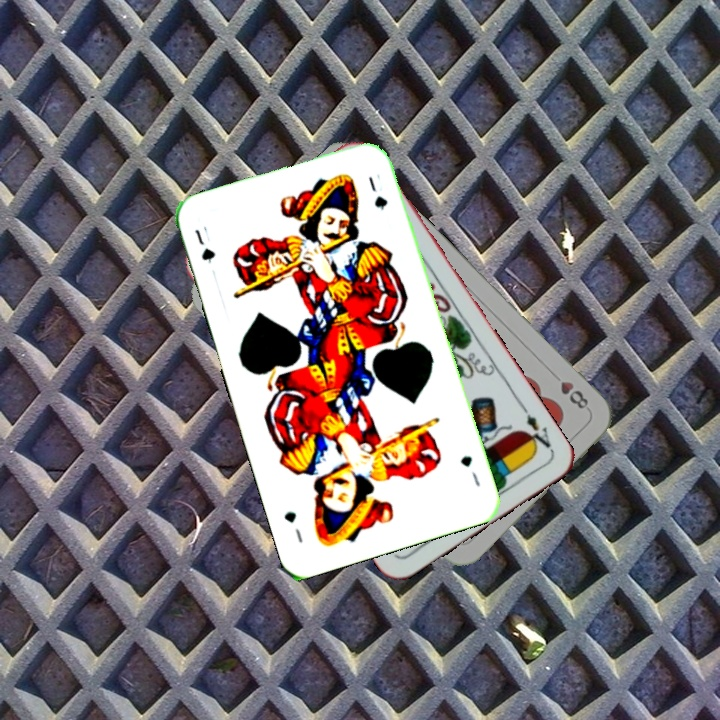EA: (517, 401, 553, 455)
GU: (190, 225, 218, 266), (456, 451, 483, 489)
H8: (556, 377, 591, 412)
